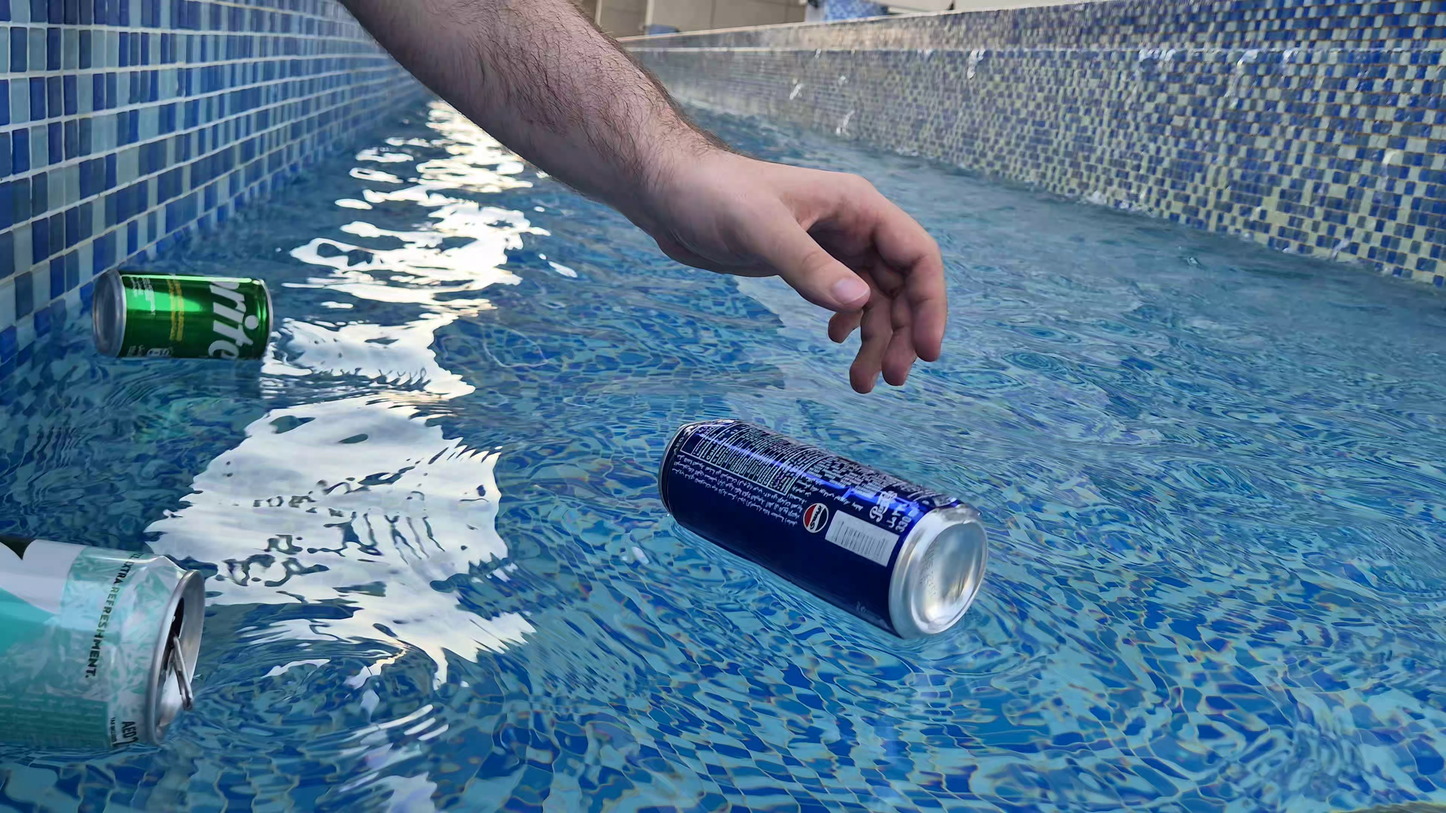debris: (642, 403, 991, 657), (0, 519, 222, 770), (76, 251, 285, 382)
